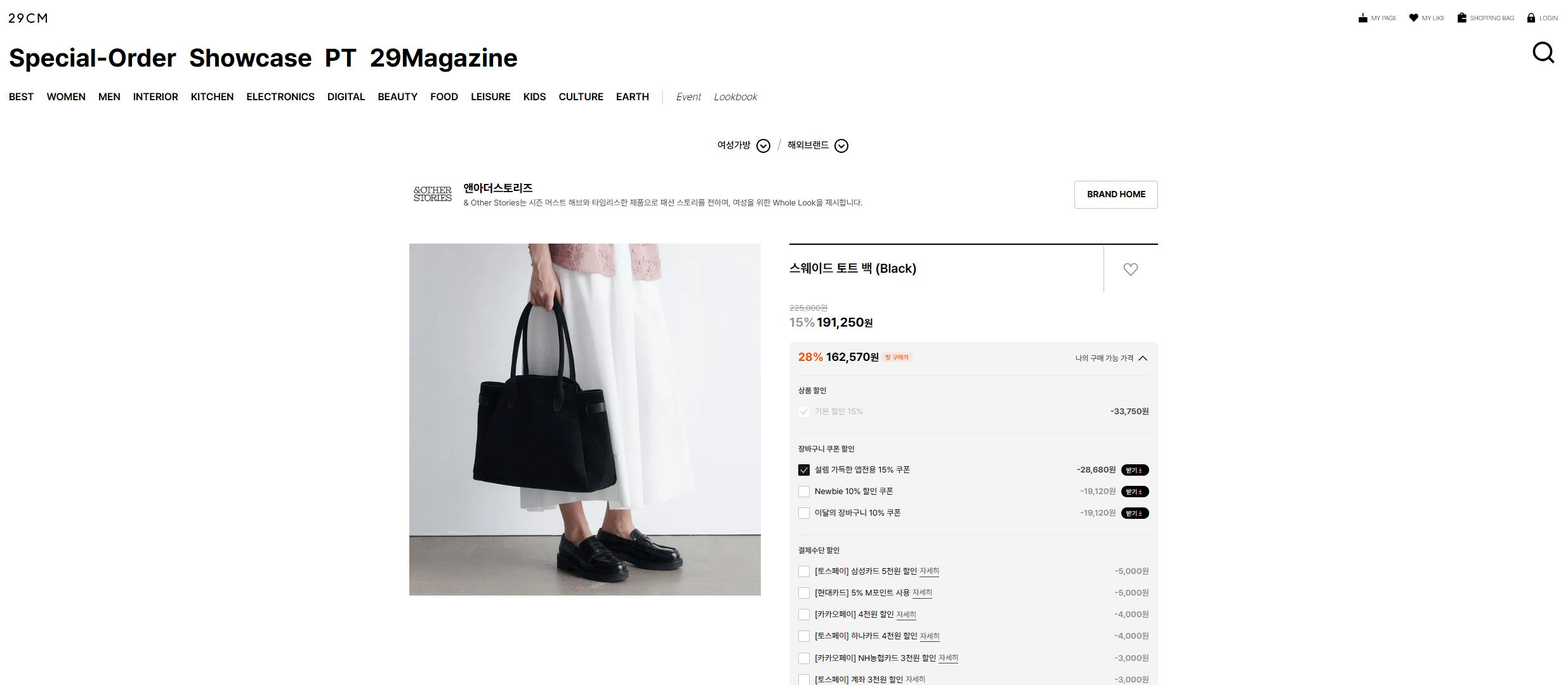button: (1073, 181, 1158, 205), (241, 89, 324, 105), (1462, 5, 1516, 25), (185, 91, 238, 109), (1525, 41, 1556, 69), (129, 88, 182, 104), (554, 89, 606, 104), (470, 87, 513, 103), (371, 89, 420, 103), (718, 89, 760, 105), (1357, 13, 1406, 26), (1410, 7, 1450, 22), (673, 82, 705, 99), (45, 88, 90, 100), (618, 92, 655, 105), (7, 87, 36, 103), (1123, 508, 1161, 520), (1524, 10, 1556, 24), (326, 93, 364, 103), (1124, 485, 1153, 498), (428, 93, 458, 105), (520, 90, 547, 103), (94, 90, 117, 103), (1122, 465, 1150, 475), (1121, 264, 1143, 275)
checkbox: (790, 652, 962, 667), (795, 564, 941, 579), (794, 627, 940, 642), (794, 481, 902, 499), (801, 458, 916, 474), (796, 504, 905, 520), (794, 606, 923, 619), (794, 590, 936, 600), (785, 137, 860, 154), (719, 137, 772, 155), (800, 405, 875, 416), (796, 678, 933, 682)
